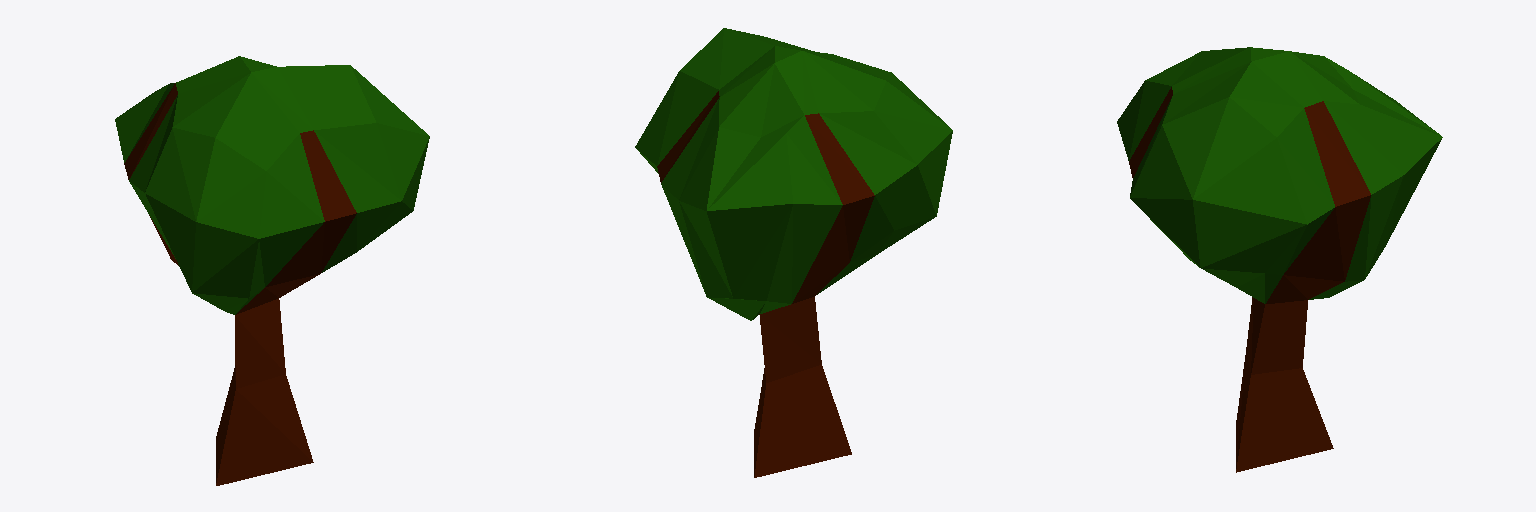
The model's file is tree3.obj.
3 renders of one model, left to right at view 1: azimuth 30°, elevation 25°; view 2: azimuth 150°, elevation 25°; view 3: azimuth 270°, elevation 25°, orthographic.
Visible parts, largest first — view 1: Circle; view 2: Circle; view 3: Circle.
Boxes of the visible parts, x1,y1,x2,y2 form: Circle: [115, 56, 429, 485]; Circle: [635, 28, 952, 477]; Circle: [1117, 47, 1442, 472].
Bounding box in the file's own units: 0.4871 × 0.7114 × 0.5278.